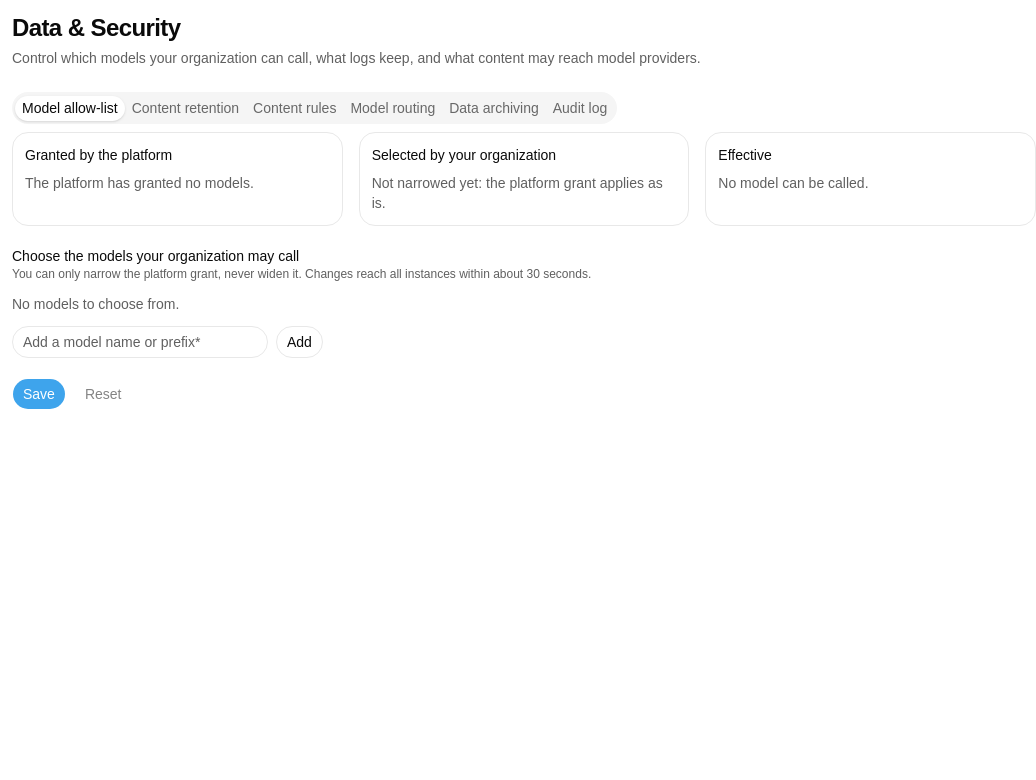
Scenario: content retention › each tier explains what it keeps
The width and height of the screenshot is (1036, 780).
Click the tab "Content retention".
click(185, 108)  # box [125, 96, 246, 120]
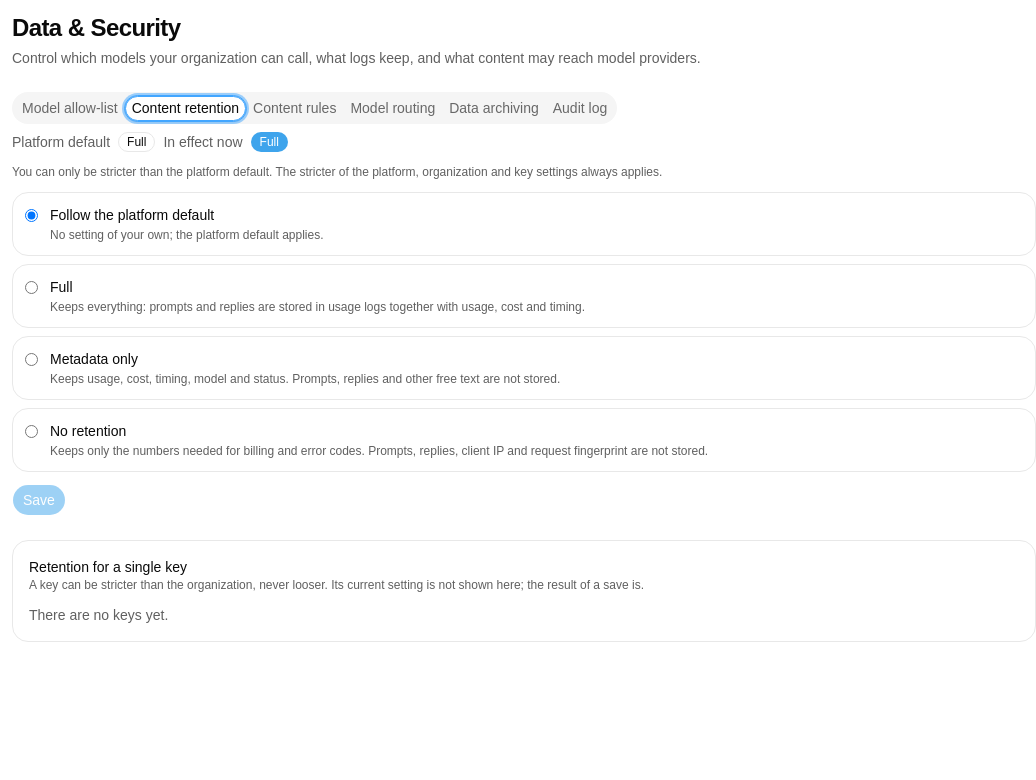
Expected: the text "Prompts, replies, client IP and request fingerprint are not stored" is shown, [50, 444, 708, 458]
Expected: the radio button labelled "Full" is enabled, [25, 281, 38, 294]
